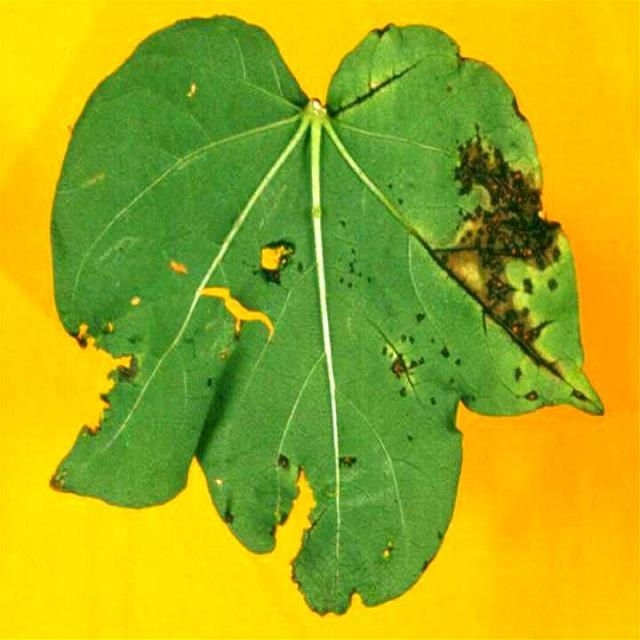Bacterial Blight: (417, 82, 572, 403)
